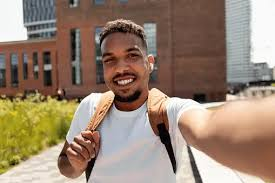Human_Male: (84, 17, 180, 183)
